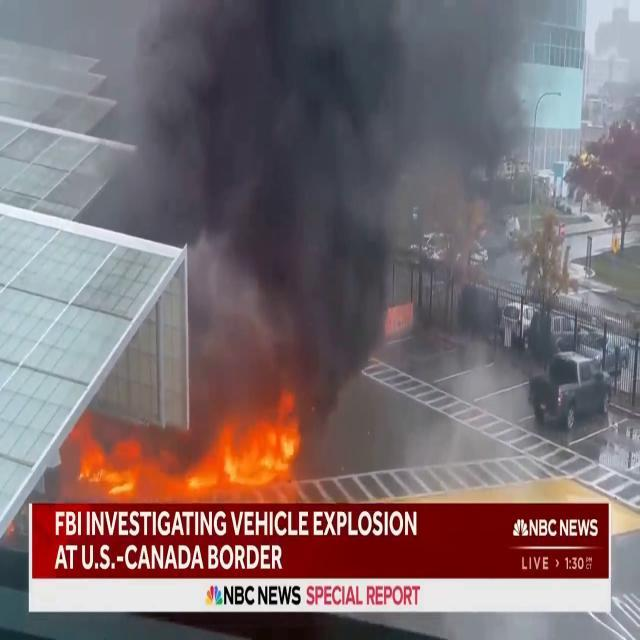Fire: (67, 402, 305, 498)
Smoke: (120, 0, 560, 404)
